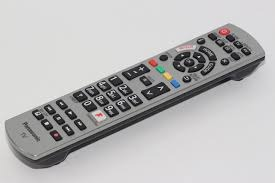remote control: (1, 18, 266, 168)
